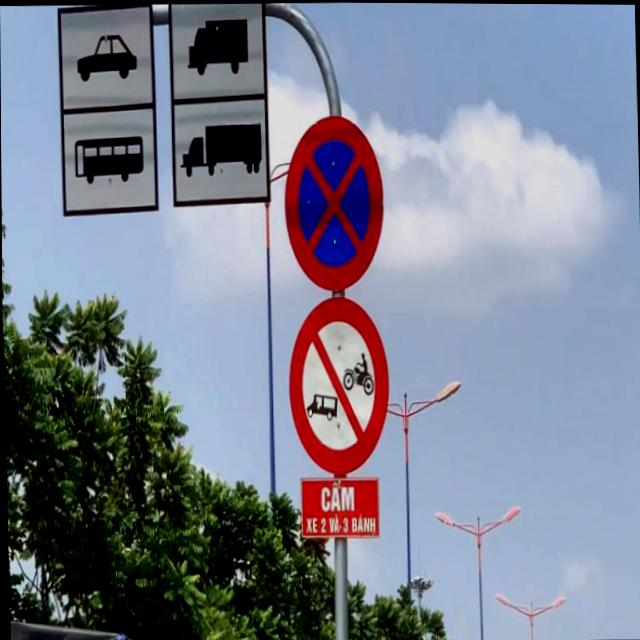Cam dung xe va do xe: (280, 109, 389, 297)
